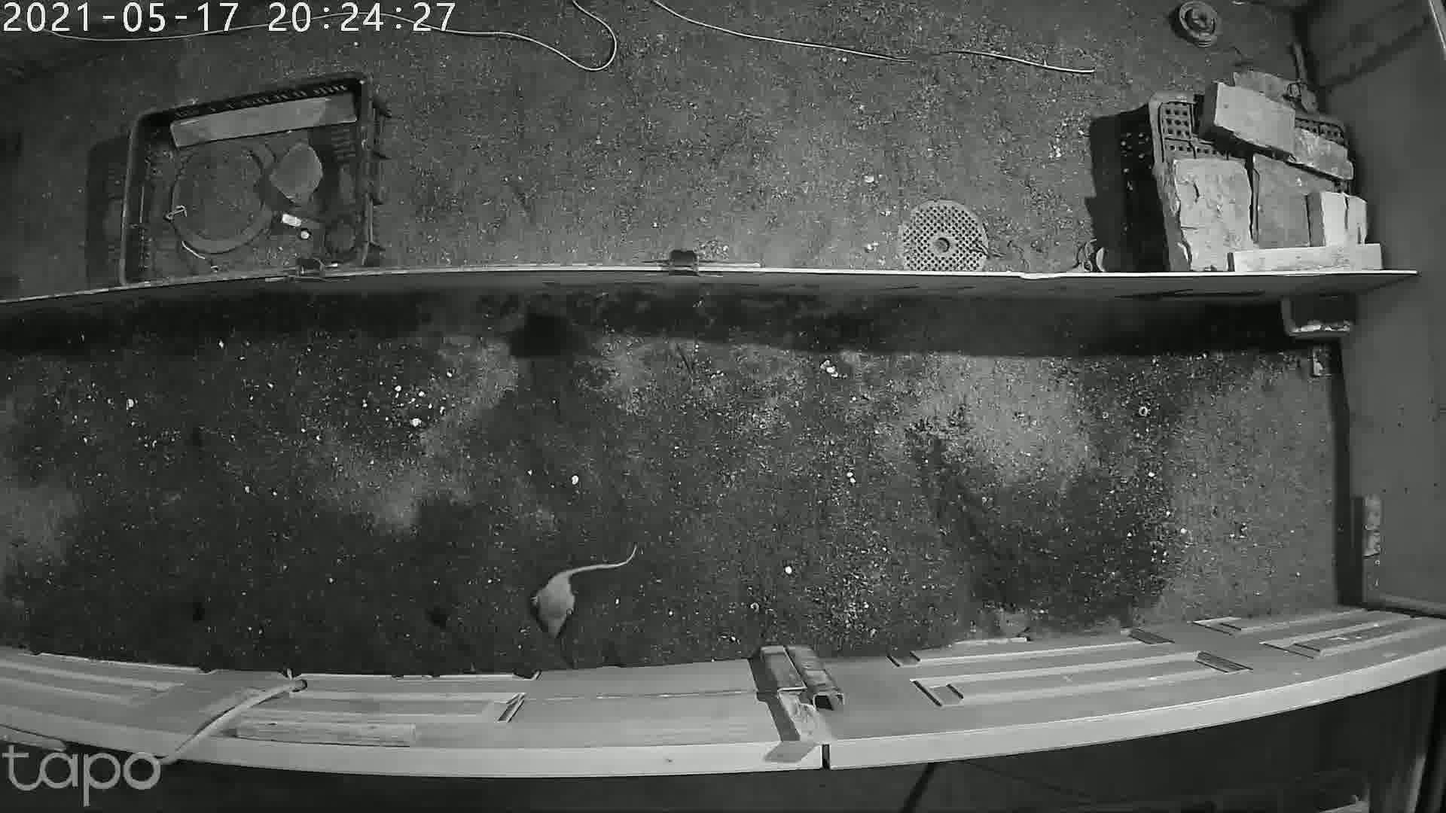rat: (524, 532, 658, 632)
